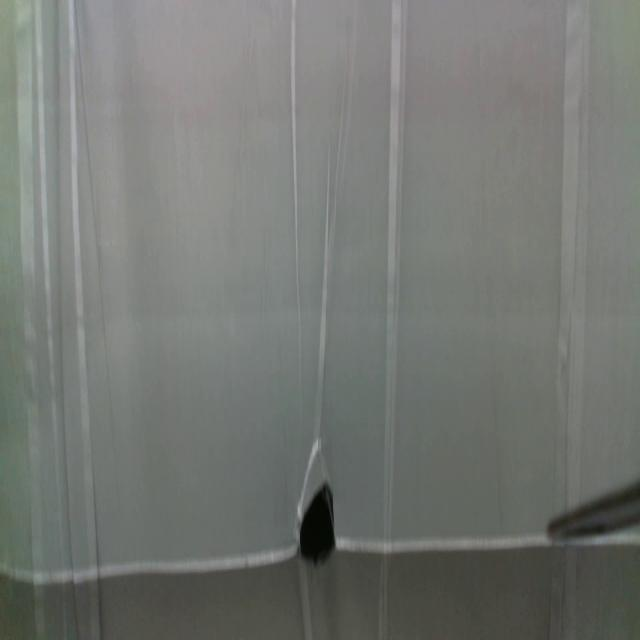crease: (15, 1, 113, 640), (552, 0, 591, 498), (315, 2, 359, 440), (379, 0, 409, 640), (288, 0, 306, 389)
hole: (297, 479, 337, 568)
